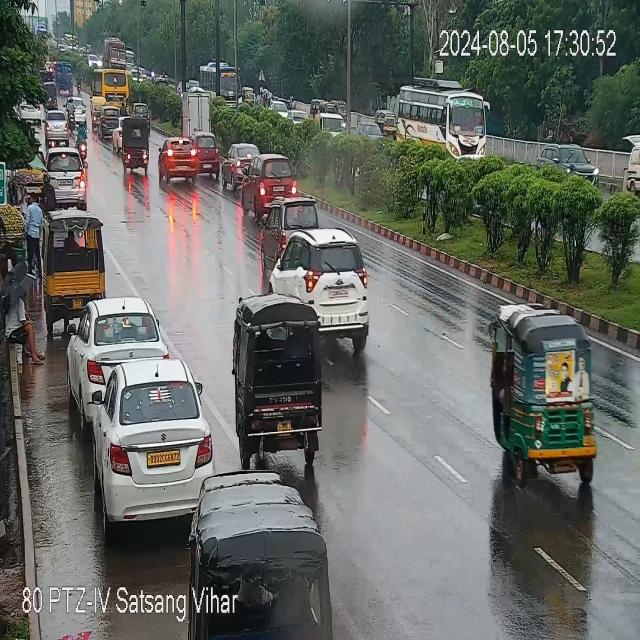2-wheelers: (78, 121, 89, 155), (68, 98, 76, 132), (76, 74, 82, 93)
auto: (188, 474, 332, 640), (489, 296, 602, 482), (237, 307, 326, 466), (44, 216, 107, 326), (117, 119, 153, 164), (373, 108, 396, 140), (90, 94, 100, 132)
bus: (389, 77, 491, 160), (199, 63, 243, 107), (89, 68, 134, 106), (101, 37, 128, 69)
car: (88, 362, 215, 534), (270, 230, 383, 339), (68, 298, 165, 397), (260, 195, 316, 272), (245, 158, 304, 220), (537, 142, 603, 184), (43, 148, 89, 206), (160, 134, 200, 189), (224, 142, 258, 187), (190, 133, 220, 171), (98, 108, 128, 140), (315, 110, 346, 137), (44, 110, 68, 142), (67, 97, 87, 126), (357, 120, 380, 138), (132, 101, 150, 120), (287, 110, 308, 124), (336, 98, 348, 121)
pedestrian: (1, 284, 36, 369), (22, 192, 43, 272)
truck: (181, 92, 218, 138)
